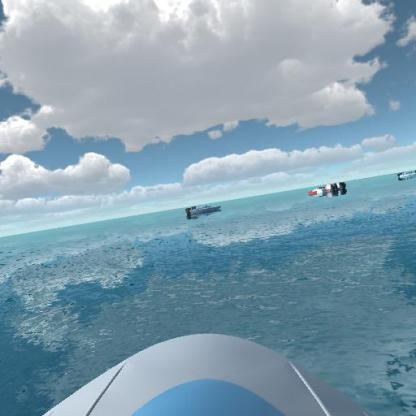usv1: (184, 198, 227, 220), (395, 166, 415, 184)
usv3: (304, 178, 352, 200)
